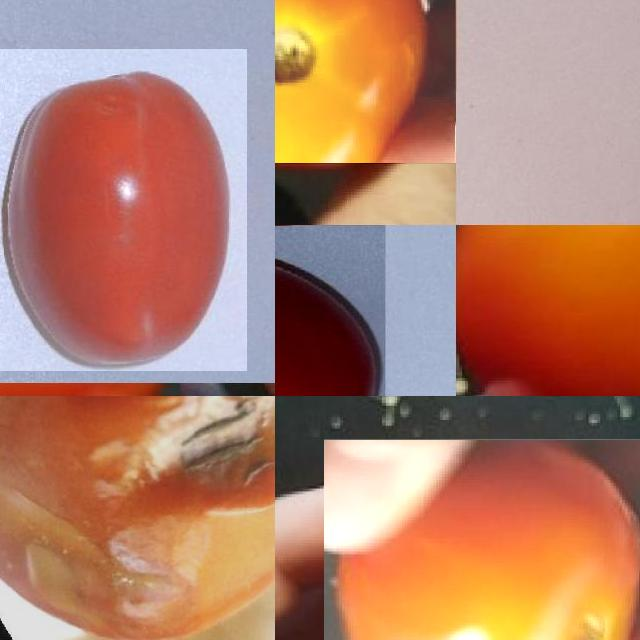0: (0, 49, 247, 371)
Fresh Tomato: (324, 439, 640, 640), (456, 225, 640, 396), (275, 0, 456, 163), (275, 225, 385, 396)
Rotten Tomato: (0, 396, 275, 640)
